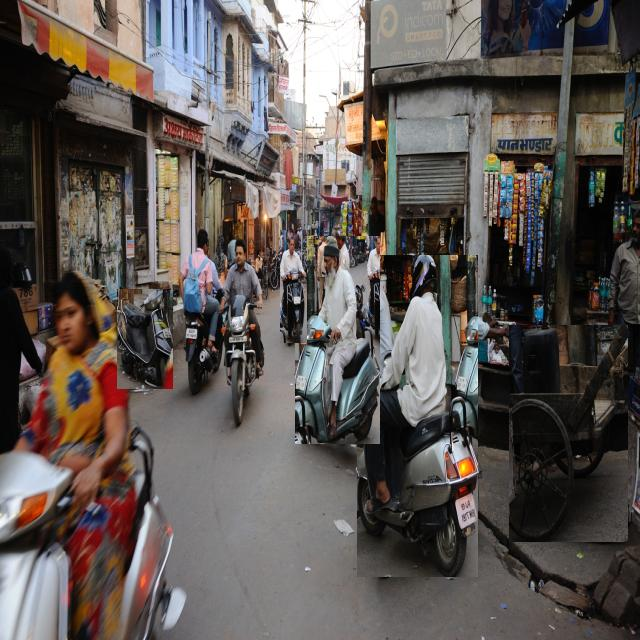bicycle: (510, 326, 628, 542)
motorcycle: (0, 274, 185, 638), (358, 256, 478, 577), (295, 236, 380, 444), (217, 239, 262, 438), (180, 230, 222, 393), (118, 289, 173, 389), (281, 230, 307, 343), (250, 316, 264, 375)
